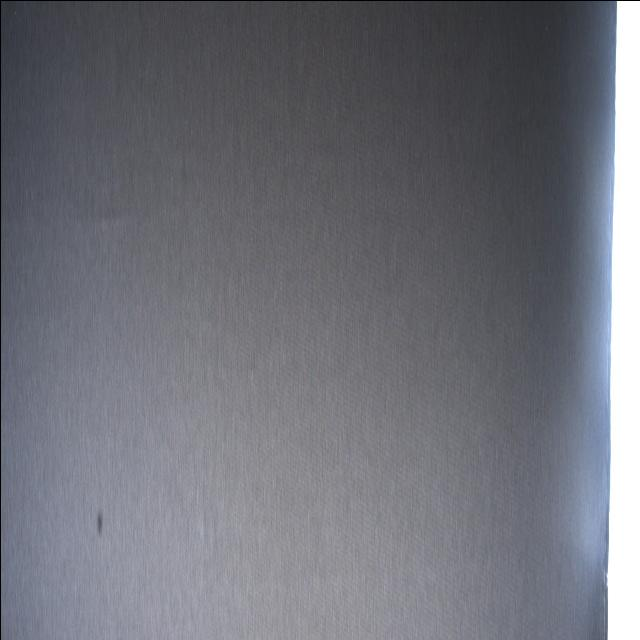crease: (52, 171, 154, 246)
